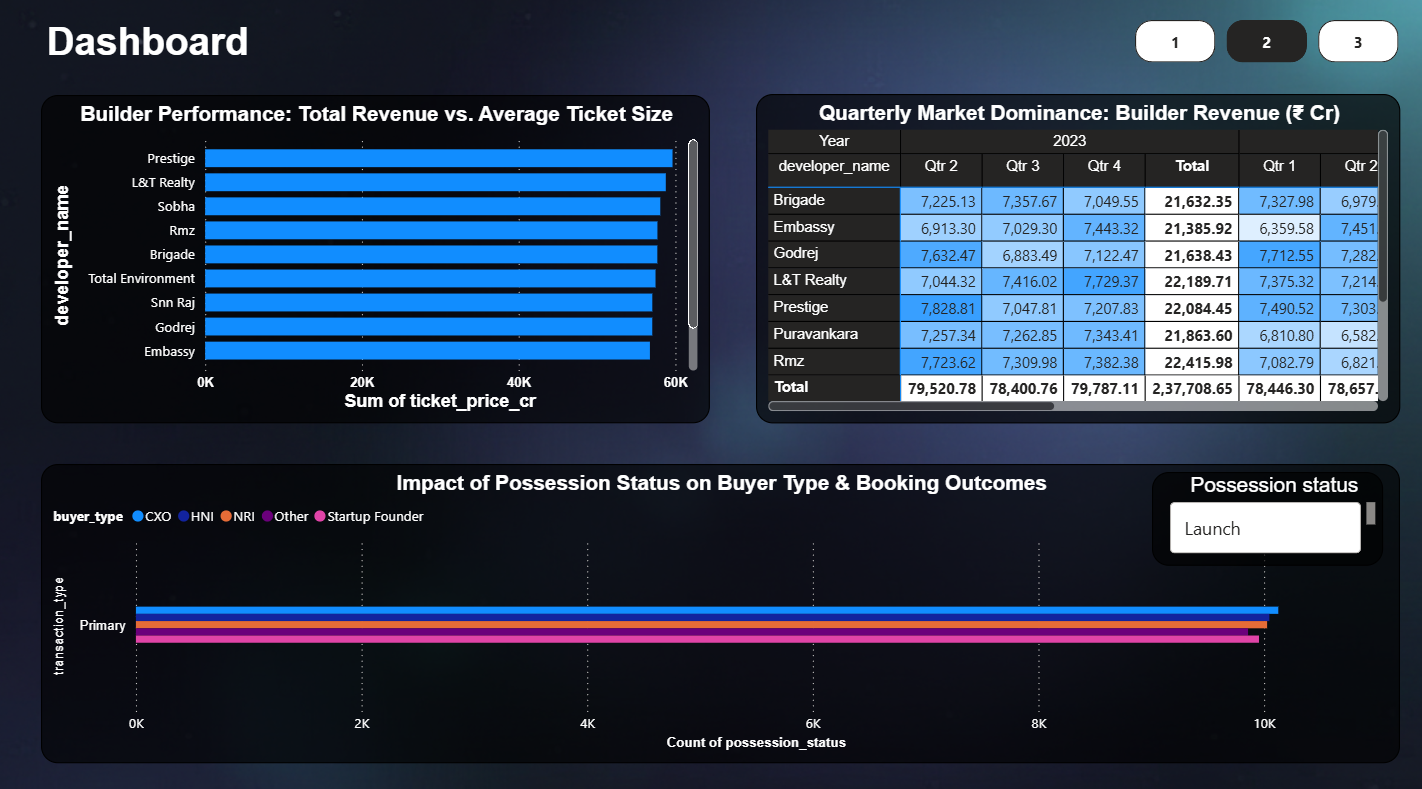

This screenshot's page, from the dashboard's own definition file:
{"tool":"powerbi","page":{"name":"2","canvas":[1280,720],"ordinal":1},"visuals":[{"type":"textbox","title":"Dashboard","box":[41.2,26.9,192.5,38.5],"z":0},{"type":"pageNavigator","box":[1020.8,27.1,237.7,38.4],"z":1000},{"type":"clusteredBarChart","title":"Builder Performance: Total Revenue vs. Average Ticket Size","fields":{"Category":["Luxury_Housing_Bangalore_cleaned_data_pro.Developer_Name"],"Y":["Sum(Luxury_Housing_Bangalore_cleaned_data_pro.Ticket_Price_Cr)"]},"box":[41.2,94,599.1,293.7],"z":2000},{"type":"pivotTable","title":"Quarterly Market Dominance: Builder Revenue (₹ Cr)","fields":{"Rows":["Luxury_Housing_Bangalore_cleaned_data_pro.Developer_Name"],"Values":["Sum(Luxury_Housing_Bangalore_cleaned_data_pro.Ticket_Price_Cr)"],"Columns":["Luxury_Housing_Bangalore_cleaned_data_pro.Purchase_Quarter.Variation.Date Hierarchy.Year","Luxury_Housing_Bangalore_cleaned_data_pro.Purchase_Quarter.Variation.Date Hierarchy.Quarter"]},"box":[681.2,93.6,577.3,294.7],"z":3000},{"type":"clusteredBarChart","title":"Impact of Possession Status on Buyer Type & Booking Outcomes","fields":{"Category":["Luxury_Housing_Bangalore_cleaned_data_pro.Transaction_Type"],"Series":["Luxury_Housing_Bangalore_cleaned_data_pro.Buyer_Type"],"Y":["CountNonNull(Luxury_Housing_Bangalore_cleaned_data_pro.Possession_Status)"]},"box":[41.2,424.8,1217.3,267.6],"z":4000},{"type":"advancedSlicerVisual","title":" Possession status","fields":{"Values":["Luxury_Housing_Bangalore_cleaned_data_pro.Possession_Status"]},"box":[1035.7,432,206.9,84.3],"z":5000}]}

Visuals, with their boxes in screenshot pixels (x1, y1, x2, y2), scaled from the page's 1280x720 canvas onto the 1422x789 screenshot:
"Dashboard" textbox: x1=46 y1=29 x2=260 y2=72
pageNavigator: x1=1134 y1=30 x2=1398 y2=72
"Builder Performance: Total Revenue vs. Average Ticket Size" clusteredBarChart: x1=46 y1=103 x2=711 y2=425
"Quarterly Market Dominance: Builder Revenue (₹ Cr)" pivotTable: x1=757 y1=103 x2=1398 y2=426
"Impact of Possession Status on Buyer Type & Booking Outcomes" clusteredBarChart: x1=46 y1=466 x2=1398 y2=759
" Possession status" advancedSlicerVisual: x1=1151 y1=473 x2=1380 y2=566
